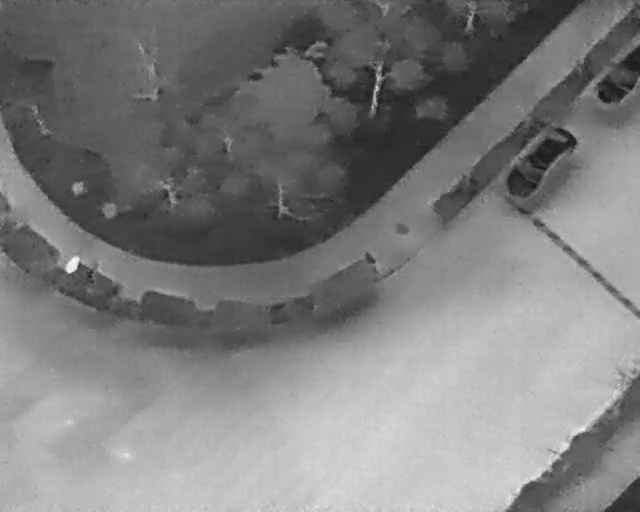Car: (494, 112, 584, 208), (592, 45, 639, 104)
